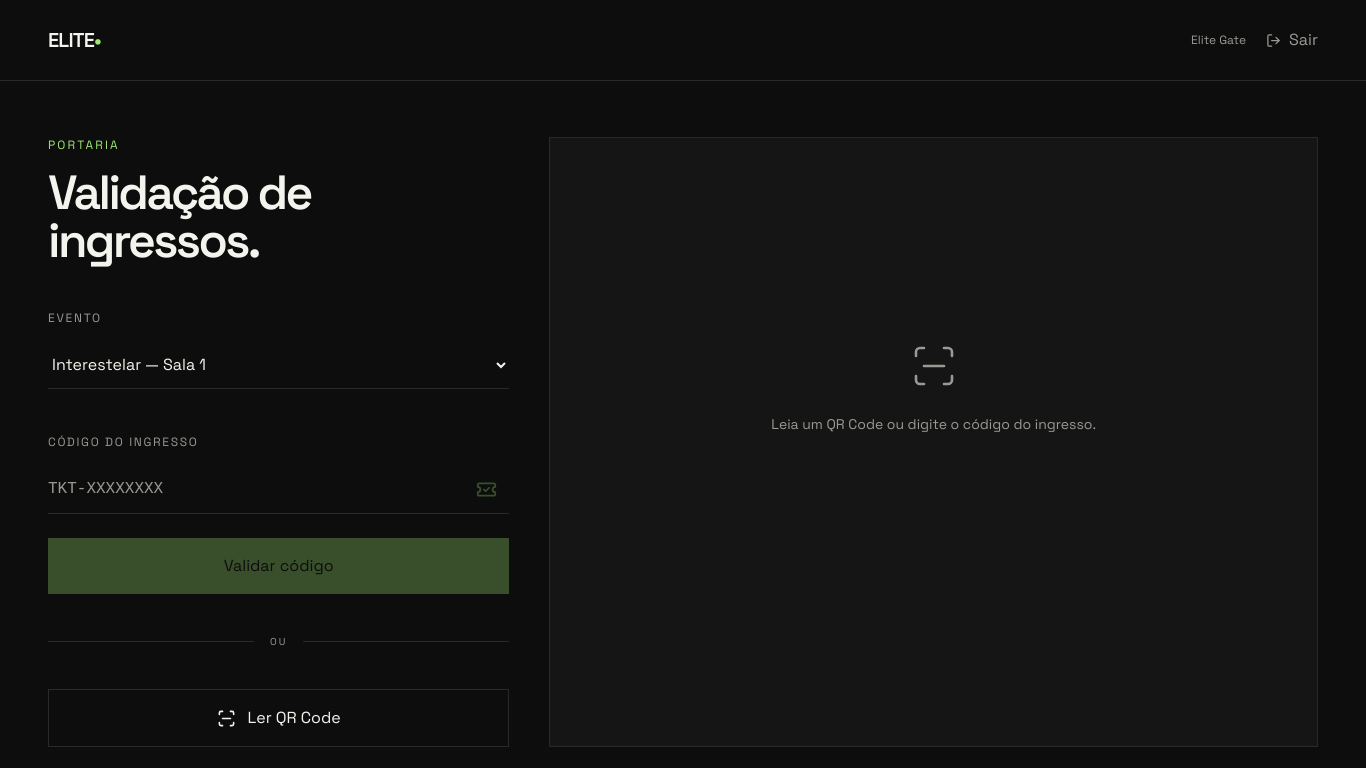
Test: GatePage › mostra entrada não autorizada para ingresso inválido
Type "TKT-INVALIDO" into the field with placeholder "TKT-XXXXXXXX". click: coordinates (256, 489)
box: [48,465,464,513]
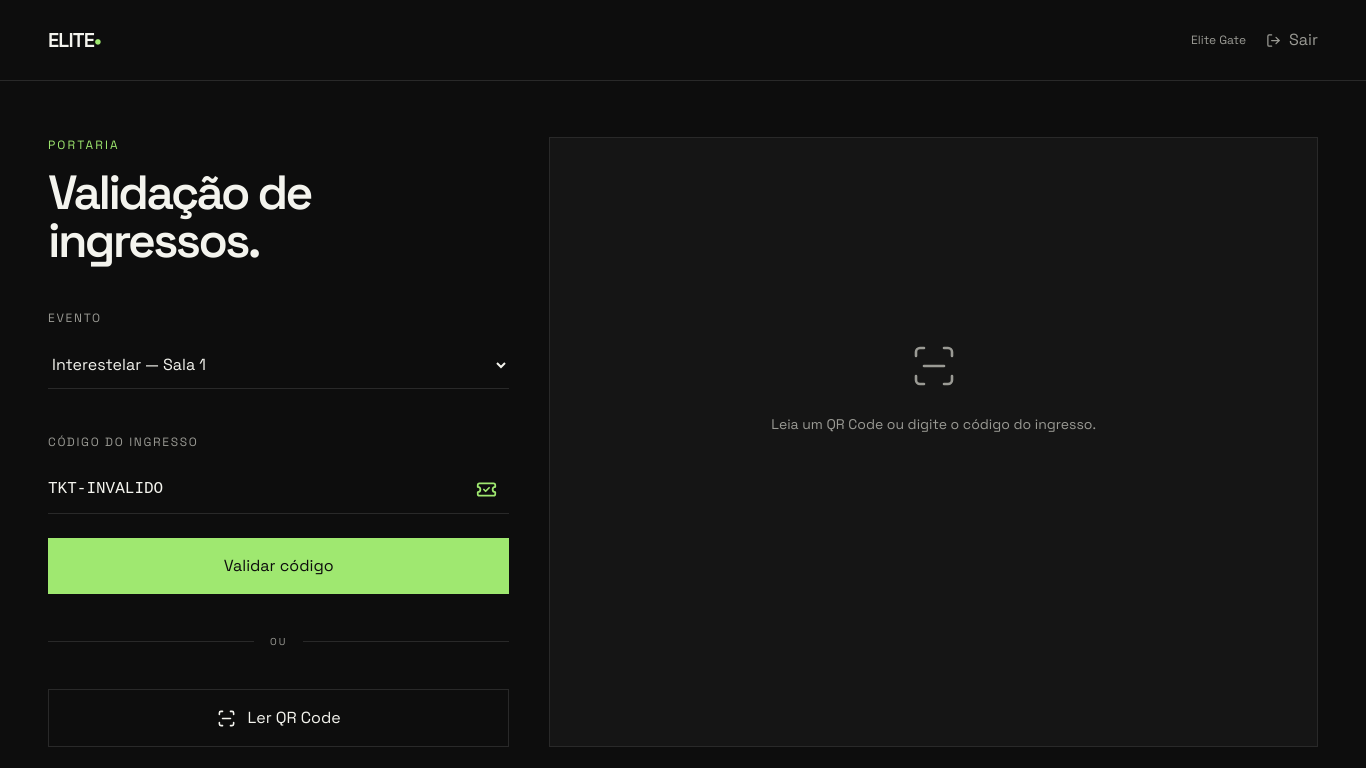
Click the button "Validar código". click: coordinates (279, 566)
box: [48,538,509,594]
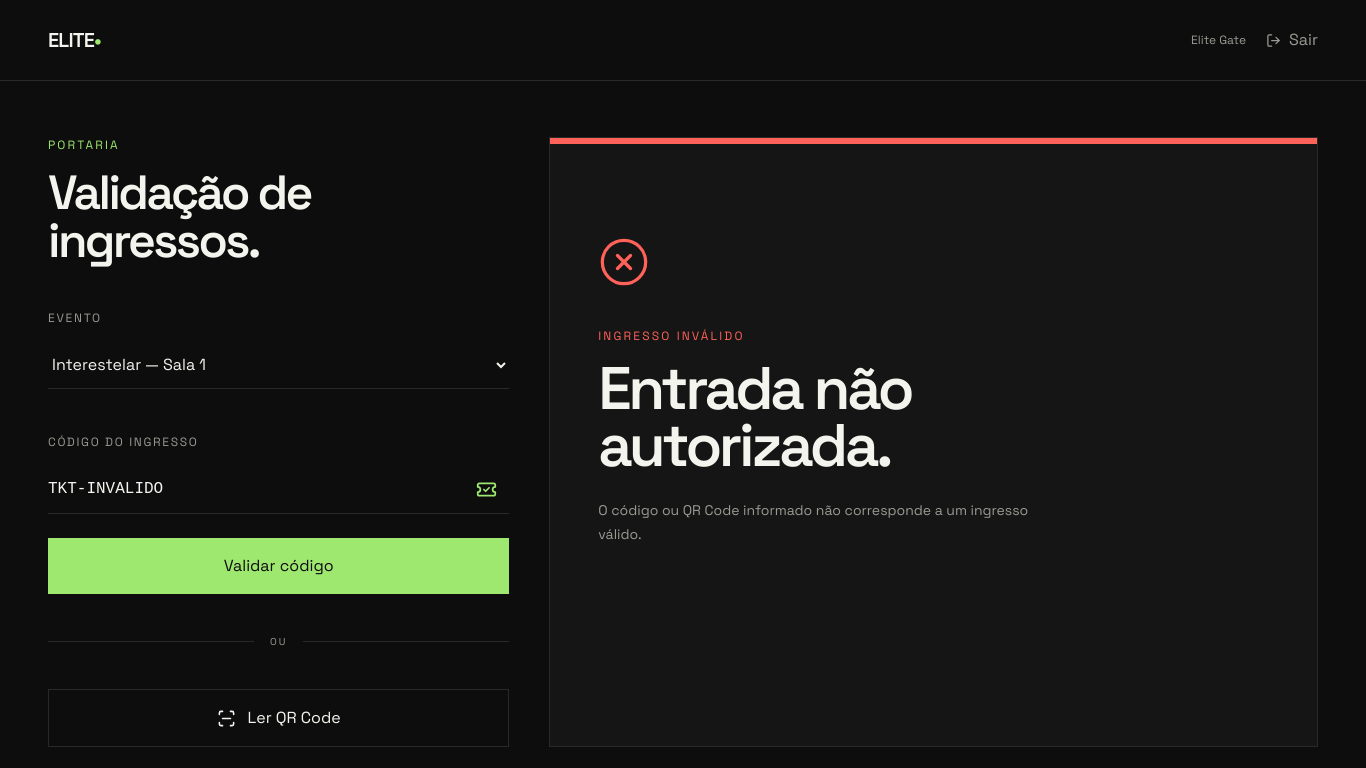
Check: the heading "Entrada não autorizada." is shown, box [598,350,911,484]
